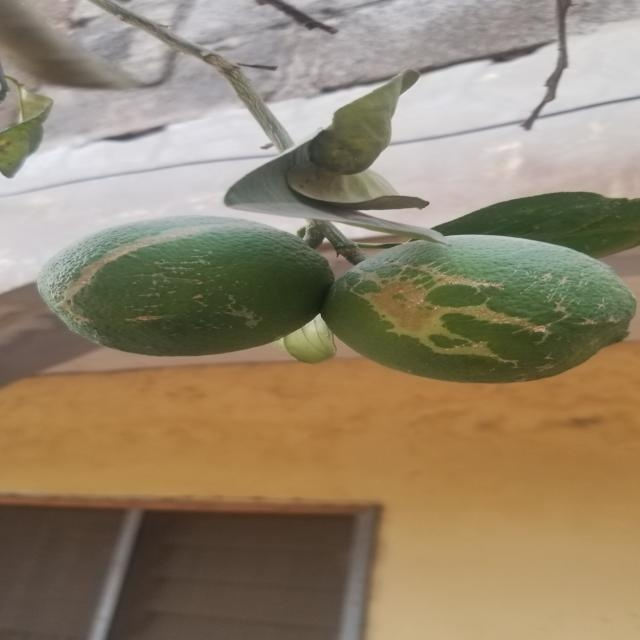agrume: (327, 230, 617, 379), (42, 219, 330, 357)
